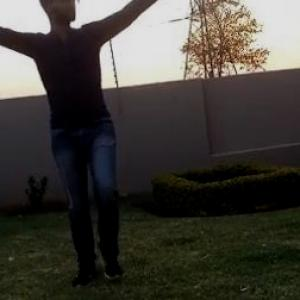takeoff: (1, 0, 174, 280)
